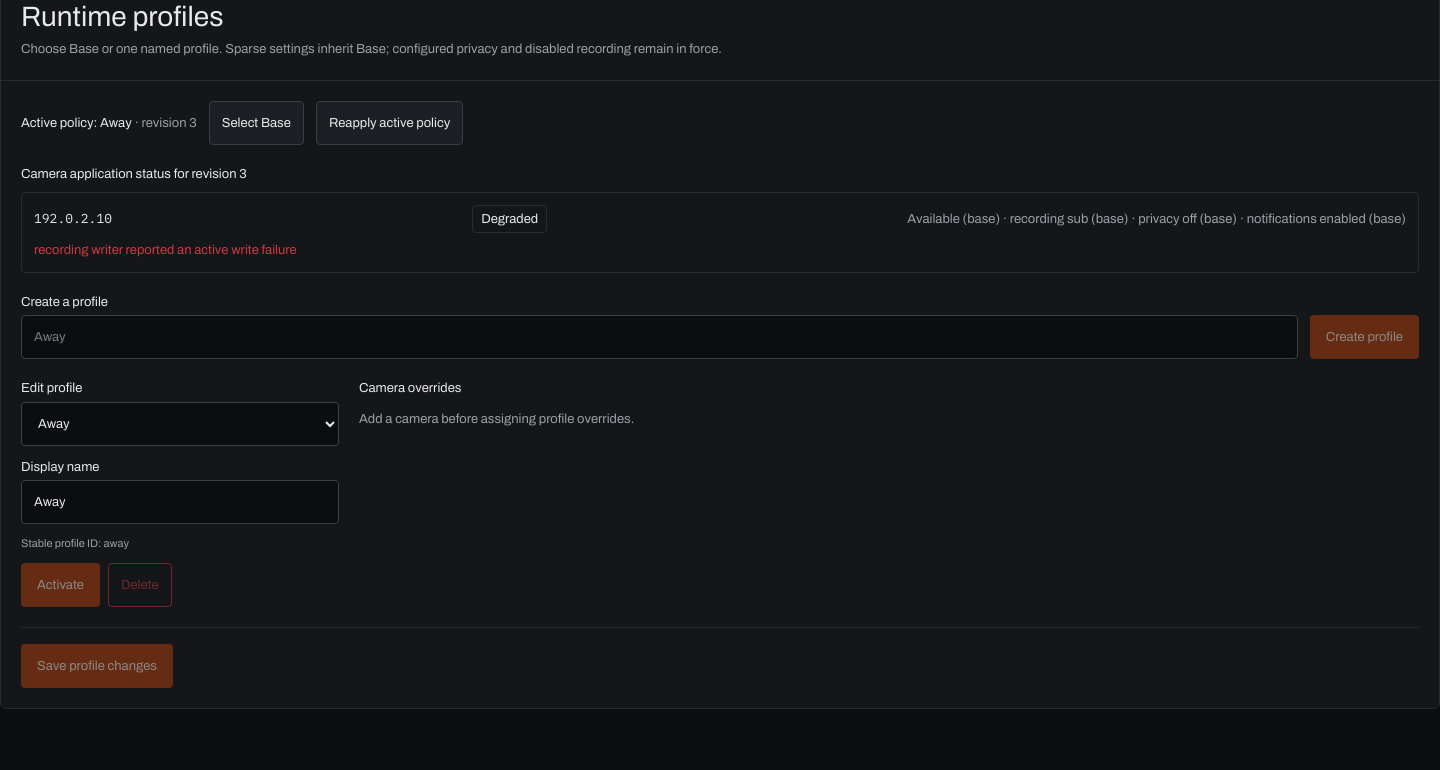
Test case: RuntimeProfilesSection › invalidates a failed registry watch while preserving edits until explicit reload
Replace the text in the field labelled "Display name" with "My unsaved label" at (180, 502), box [21, 480, 339, 524]
(page scrolled)
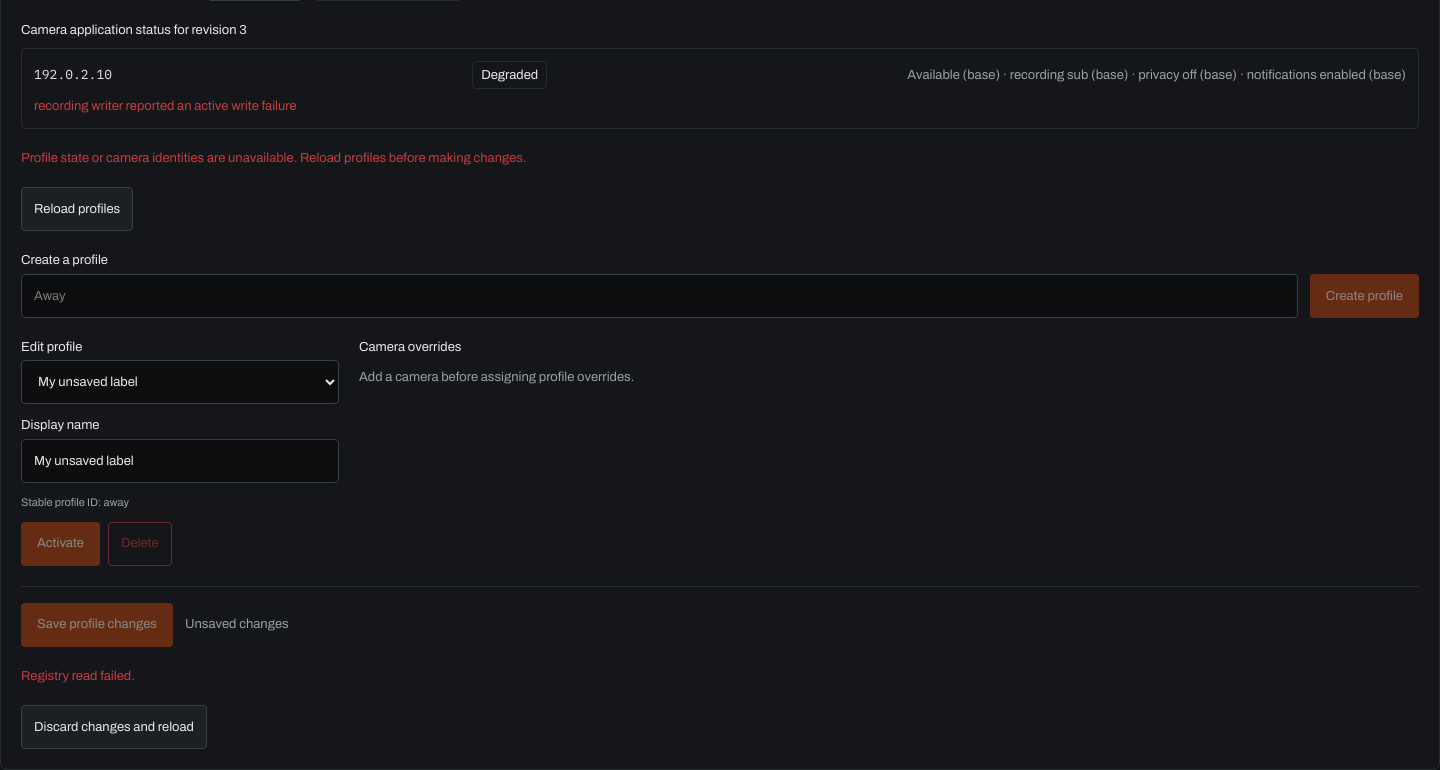
Expected: the field labelled "Display name" is disabled, [21, 439, 339, 483]
Expected: the message reads "Registry read failed.", [21, 669, 135, 683]
Click the button "Discard changes and reload".
click(114, 727)  # box [21, 705, 207, 749]
(page scrolled)
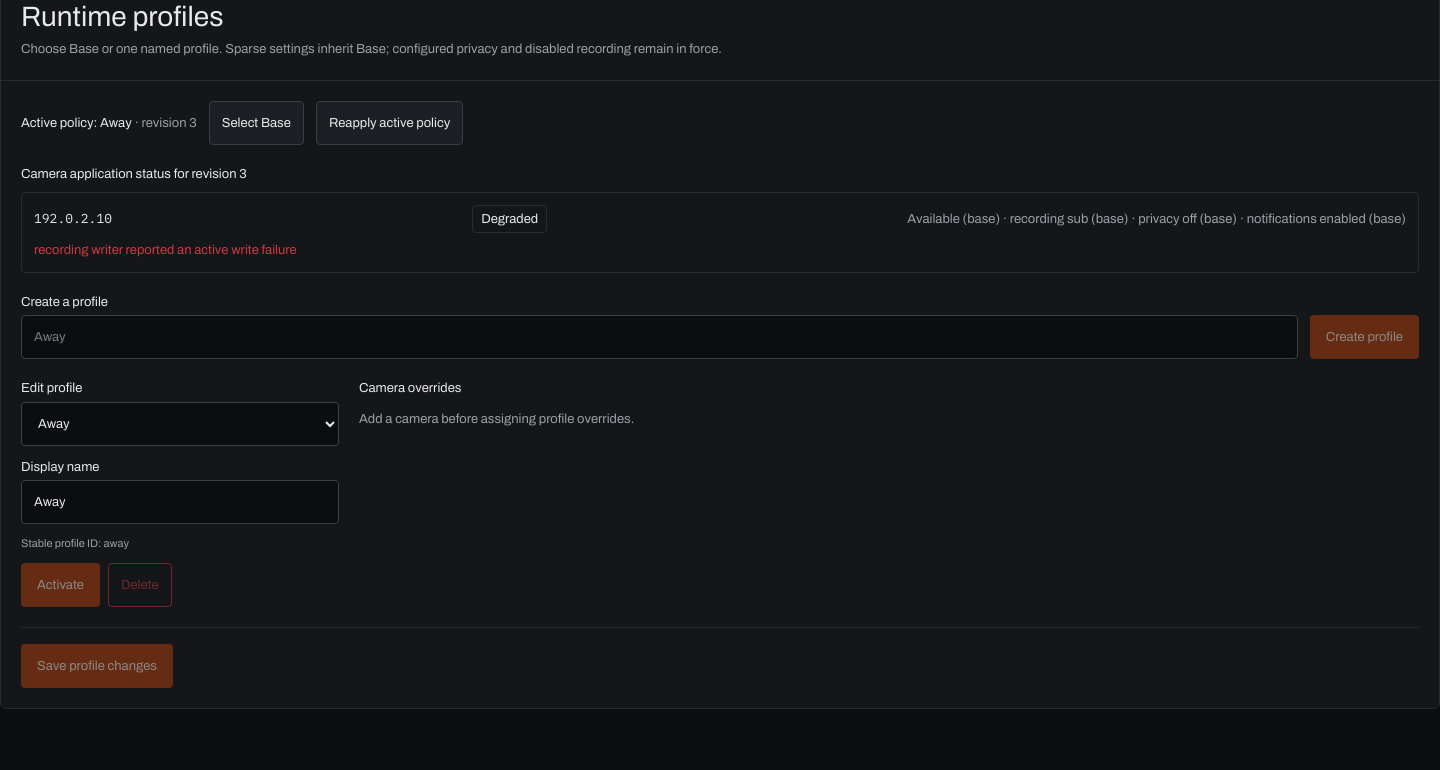
Expected: the field labelled "Display name" is enabled, [21, 480, 339, 524]
Expected: the field labelled "Display name" holds "Away", [21, 480, 339, 524]
